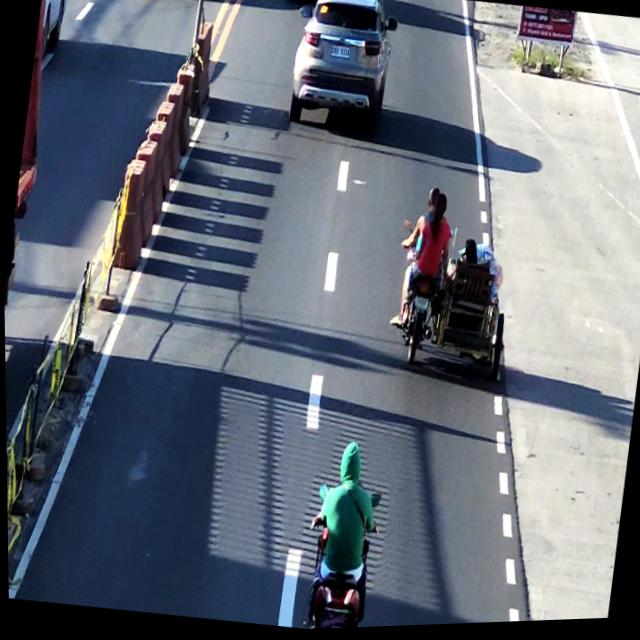Car: (286, 0, 402, 136)
License-Plate: (411, 298, 430, 320), (328, 47, 352, 64)
Motorcycle: (292, 437, 402, 632)
Tricycle: (382, 182, 526, 397)
